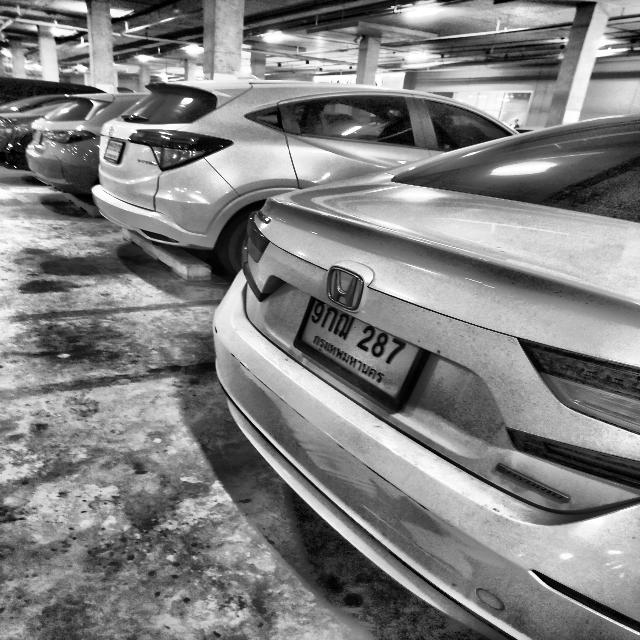license-plate: (297, 298, 420, 399)
